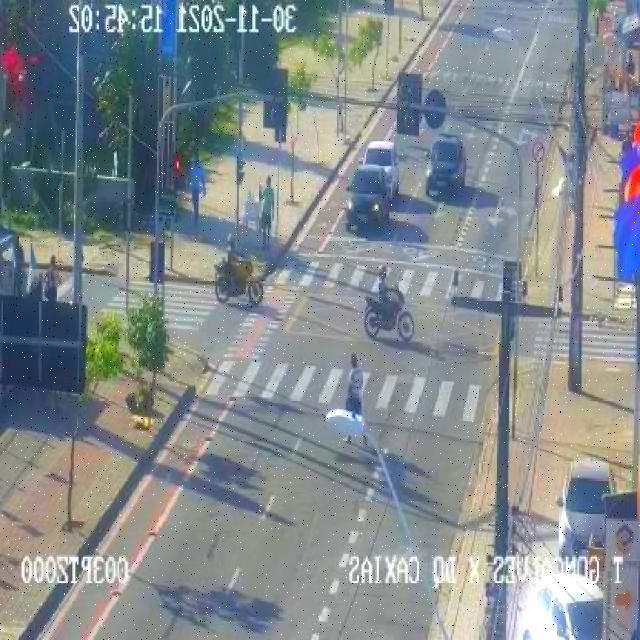Car: (554, 458, 615, 558), (342, 166, 389, 231), (423, 134, 466, 198), (357, 142, 401, 193)
Cycle: (361, 288, 417, 342), (211, 258, 266, 307)
